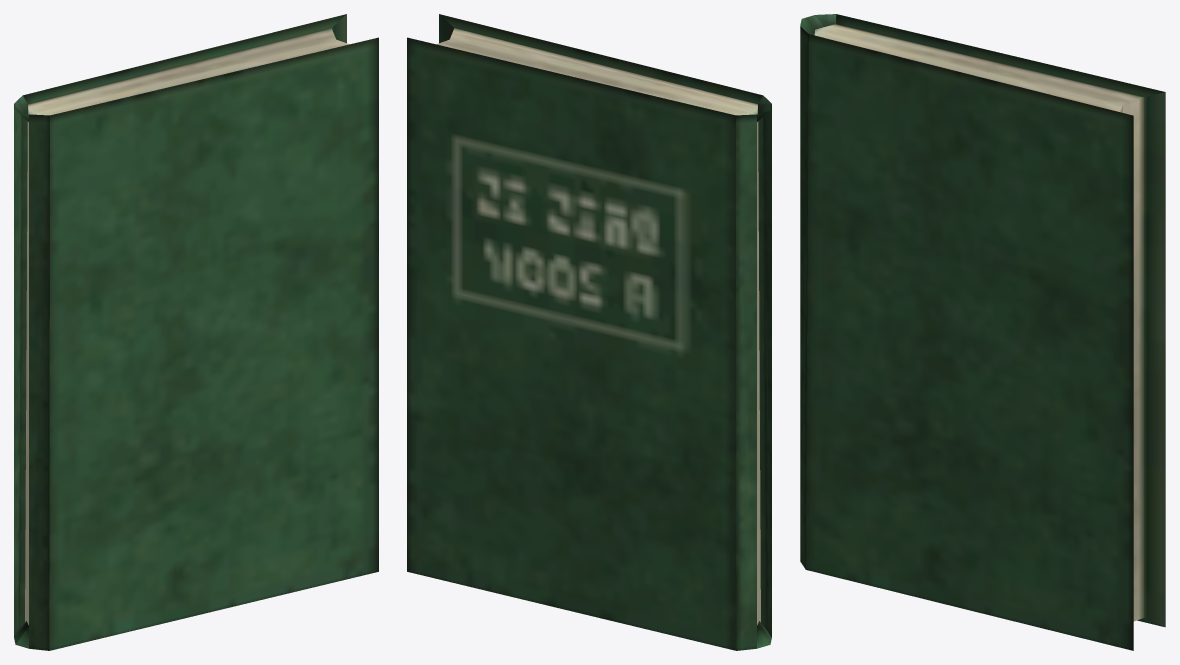
File: Sheep_commonBook.obj
3 renders of one model, left to right at view 1: azimuth 30°, elevation 25°; view 2: azimuth 150°, elevation 25°; view 3: azimuth 330°, elevation 25°, orthographic.
Visible parts, largest first — view 1: Sheep_commonBook_tri; view 2: Sheep_commonBook_tri; view 3: Sheep_commonBook_tri.
Part boxes in pixels (<box>): Sheep_commonBook_tri: <box>14,14,378,650</box>; Sheep_commonBook_tri: <box>407,14,771,650</box>; Sheep_commonBook_tri: <box>800,14,1165,650</box>.
Bounding box in the file's own units: 0.2527 × 0.3713 × 0.0404.
1 material, 1 textured.
